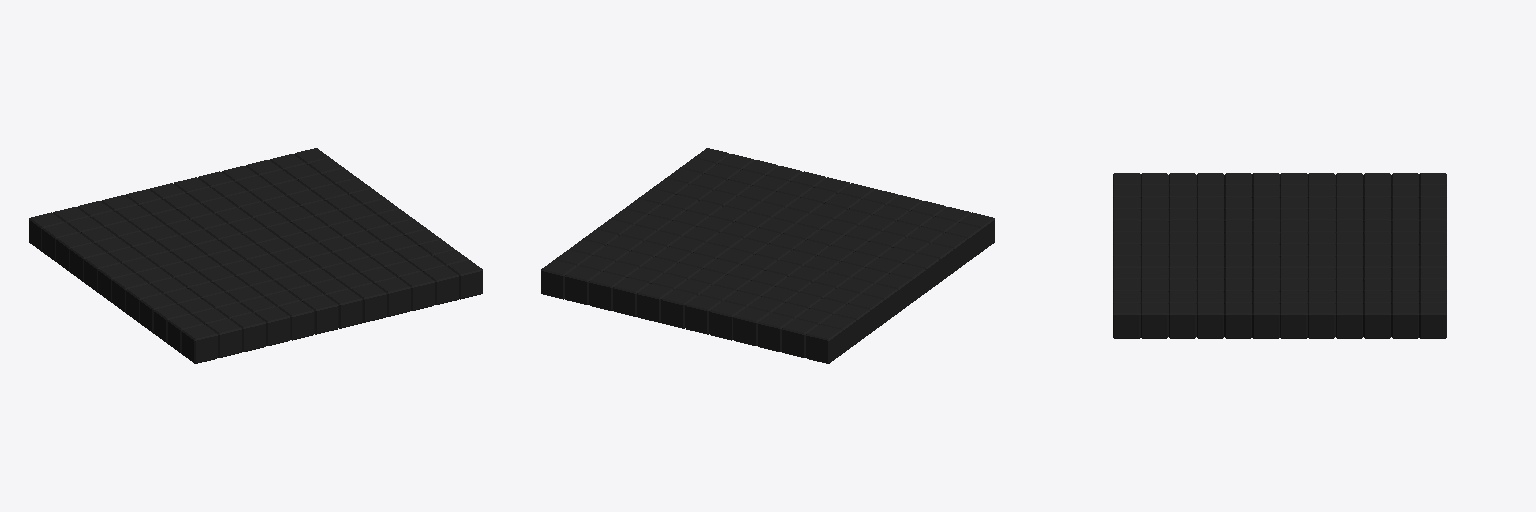
The model's file is piso.obj.
3 renders of one model, left to right at view 1: azimuth 30°, elevation 25°; view 2: azimuth 150°, elevation 25°; view 3: azimuth 270°, elevation 25°, orthographic.
Visible parts, largest first — view 1: Cube.004_Cube.009; view 2: Cube.004_Cube.009; view 3: Cube.004_Cube.009.
Part boxes in pixels (bbox=[...]): Cube.004_Cube.009: bbox=[29, 148, 482, 363]; Cube.004_Cube.009: bbox=[541, 148, 994, 363]; Cube.004_Cube.009: bbox=[1113, 173, 1446, 338].
Size of the model in its own units: 12 by 1 by 12.